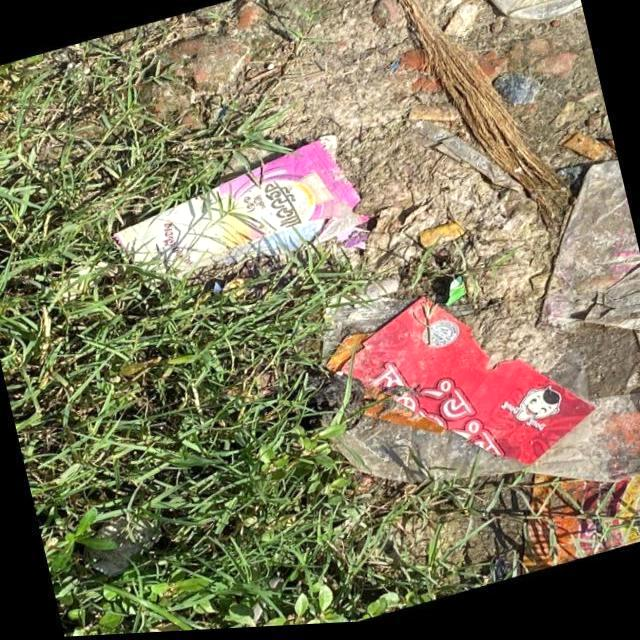packet: (331, 276, 590, 500), (124, 137, 368, 288)
